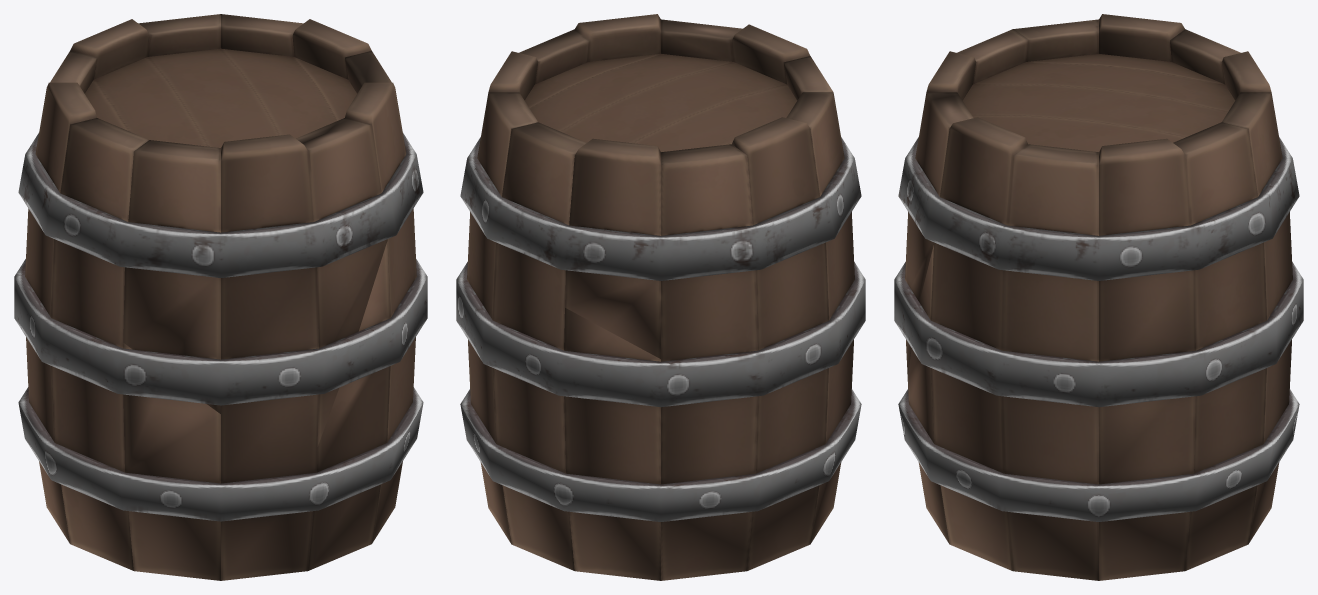
File: barrel_shards1.fbx
3 renders of one model, left to right at view 1: azimuth 30°, elevation 25°; view 2: azimuth 150°, elevation 25°; view 3: azimuth 270°, elevation 25°, orthographic.
Visible parts, largest first — view 1: barrel_low.019, barrel_low.014, barrel_low.004, barrel_low.002, barrel_low.005, barrel_low.003, barrel_low.010, barrel_low.016, barrel_low.013, barrel_low.020, barrel_low.009, barrel_low.011 (+5 smaller); view 2: barrel_low.015, barrel_low.011, barrel_low.001, barrel_low.004, barrel_low.002, barrel_low.005, barrel_low.003, barrel_low.017, barrel_low.007, barrel_low.008, barrel_low.014, barrel_low.009 (+4 smaller); view 3: barrel_low.009, barrel_low.008, barrel_low.004, barrel_low.002, barrel_low.005, barrel_low.012, barrel_low.003, barrel_low.018, barrel_low.001, barrel_low.013, barrel_low.011, barrel_low.020 (+5 smaller).
Part boxes in pixels (box(x1,y1,x2,y2)): barrel_low.019: box(221, 134, 318, 580); barrel_low.014: box(51, 118, 148, 570); barrel_low.004: box(14, 259, 427, 405); barrel_low.002: box(18, 133, 423, 277); barrel_low.005: box(85, 48, 356, 147); barrel_low.003: box(18, 387, 423, 521); barrel_low.010: box(123, 140, 220, 413); barrel_low.016: box(123, 343, 220, 580); barrel_low.013: box(296, 118, 387, 446); barrel_low.020: box(308, 241, 390, 570); barrel_low.009: box(345, 51, 416, 543); barrel_low.011: box(25, 82, 96, 543); barrel_low.015: box(661, 144, 757, 580); barrel_low.011: box(732, 117, 828, 570); barrel_low.001: box(493, 122, 586, 570); barrel_low.004: box(456, 262, 865, 407); barrel_low.002: box(460, 137, 861, 280); barrel_low.005: box(524, 54, 797, 151); barrel_low.003: box(460, 389, 861, 521); barrel_low.017: box(564, 308, 660, 580); barrel_low.007: box(565, 138, 660, 358); barrel_low.008: box(467, 92, 537, 543); barrel_low.014: box(786, 92, 854, 543); barrel_low.009: box(519, 14, 660, 84); barrel_low.009: box(931, 117, 1098, 580); barrel_low.008: box(1173, 122, 1266, 570); barrel_low.004: box(894, 262, 1303, 407); barrel_low.002: box(898, 137, 1299, 280); barrel_low.005: box(962, 54, 1235, 151); barrel_low.012: box(1099, 138, 1195, 361); barrel_low.003: box(898, 389, 1299, 521); barrel_low.018: box(1099, 396, 1195, 580); barrel_low.001: box(1222, 92, 1292, 543); barrel_low.013: box(905, 92, 973, 377); barrel_low.011: box(1099, 14, 1184, 61); barrel_low.020: box(907, 245, 949, 543).
Bounding box in the file's own units: 237 × 270 × 237.
Materials: 1 (1 with a texture image).
